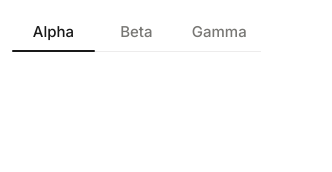
Scenario: Segmented › selects on click and keeps only the selected tab in the tab order
Click the tab "Beta".
click(136, 32)  # box [95,12,178,52]
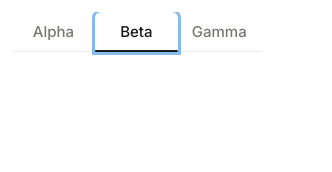
Expected: the tab "Beta" is selected, [95,12,178,52]
Expected: the tab "Alpha" has attribute tabindex="-1", [12,12,95,52]
